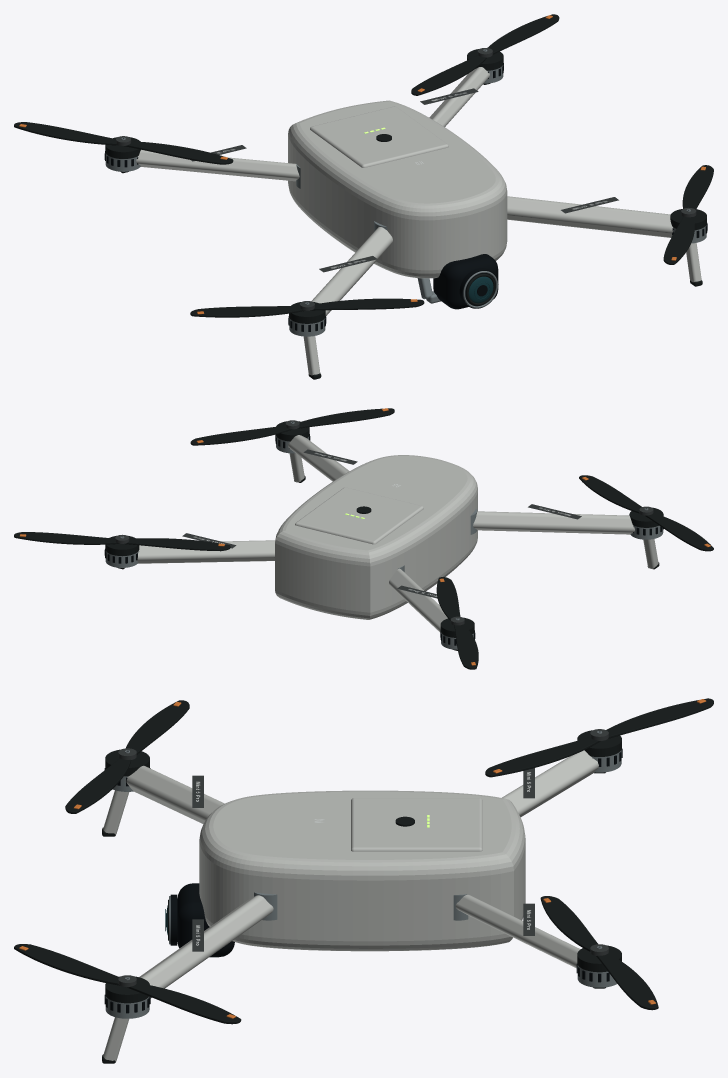
The model's file is mini-5-pro-default.glb.
3 renders of one model, top to bottom at view 1: azimuth 30°, elevation 25°; view 2: azimuth 150°, elevation 25°; view 3: azimuth 270°, elevation 25°, orthographic. The views are drawn at different scales.
Visible parts, largest first — view 1: fuselage, arm-1-1, blade-1 (×4), blade-0 (×4), motor-and-propeller (×4), arm--1-1, arm--1--1, stabilized-camera, arm-1--1, lens-assembly; view 2: fuselage, arm--1-1, blade-1 (×4), blade-0 (×4), motor-and-propeller (×4), arm-1--1, arm-1-1, arm--1--1; view 3: fuselage, blade-0 (×4), blade-1 (×4), arm-1-1, motor-and-propeller (×4), arm--1-1, arm-1--1, arm--1--1, stabilized-camera, lens-assembly.
Part boxes in pixels (left/top/right/bottom): fuselage: left=288, top=100, right=507, bottom=278; arm-1-1: left=507, top=196, right=702, bottom=286; blade-1 (×4): left=14, top=55, right=694, bottom=317; blade-0 (×4): left=124, top=14, right=713, bottom=310; motor-and-propeller (×4): left=104, top=49, right=707, bottom=336; arm--1-1: left=303, top=221, right=392, bottom=379; arm--1--1: left=120, top=145, right=300, bottom=188; stabilized-camera: left=417, top=254, right=498, bottom=309; arm-1--1: left=420, top=67, right=490, bottom=126; lens-assembly: left=459, top=268, right=498, bottom=308; fuselage: left=275, top=455, right=477, bottom=619; arm--1-1: left=470, top=504, right=659, bottom=569; blade-1 (×4): left=124, top=408, right=713, bottom=669; blade-0 (×4): left=14, top=425, right=641, bottom=620; motor-and-propeller (×4): left=104, top=421, right=663, bottom=649; arm-1--1: left=117, top=533, right=275, bottom=569; arm-1-1: left=288, top=435, right=357, bottom=482; arm--1--1: left=389, top=565, right=457, bottom=650; fuselage: left=199, top=790, right=525, bottom=951; blade-0 (×4): left=65, top=737, right=658, bottom=1024; blade-1 (×4): left=14, top=698, right=713, bottom=985; arm-1-1: left=102, top=892, right=277, bottom=1063; motor-and-propeller (×4): left=104, top=730, right=622, bottom=1018; arm--1-1: left=102, top=765, right=224, bottom=836; arm-1--1: left=453, top=894, right=605, bottom=988; arm--1--1: left=502, top=750, right=605, bottom=817; stabilized-camera: left=177, top=883, right=234, bottom=957; lens-assembly: left=165, top=894, right=177, bottom=945.
Bounding box in the file's own units: 0.2657 × 0.0475 × 0.236.
Materials: 10 (2 with a texture image).
